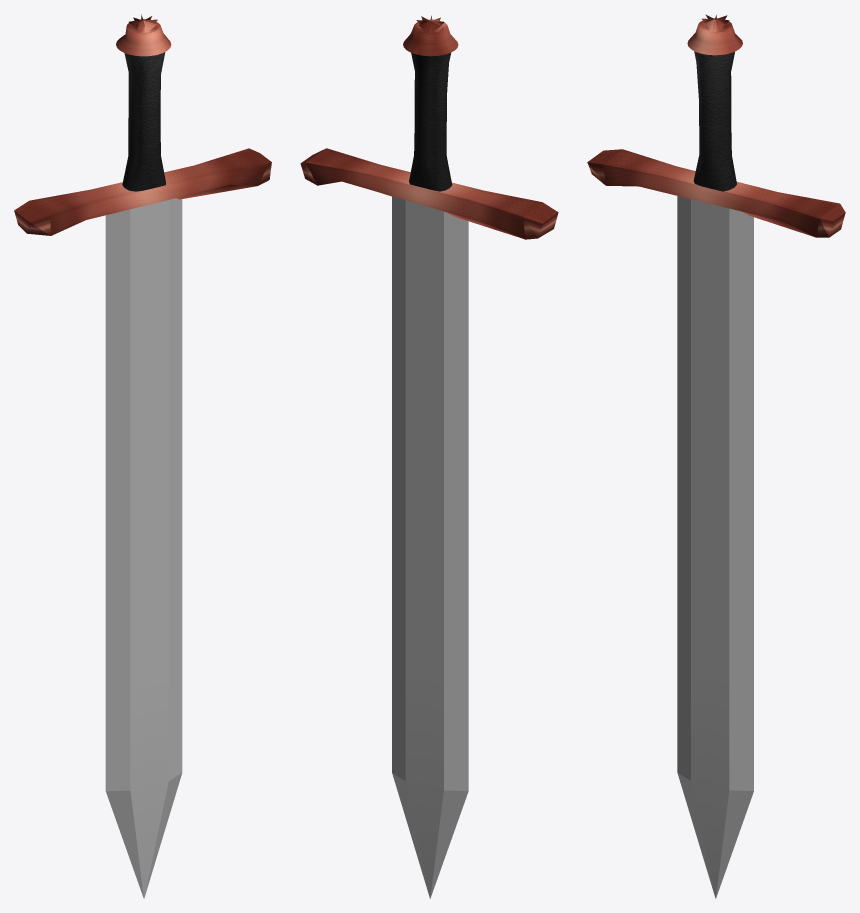
Rendered from Espada V2.FBX.
3 views of the same model, side by side, from view 1: azimuth 30°, elevation 25°; view 2: azimuth 150°, elevation 25°; view 3: azimuth 330°, elevation 25° (orthographic).
Parts seen in each view (by area): view 1: Filo, Tope espada, Mango, Tope mango; view 2: Filo, Tope espada, Mango, Tope mango; view 3: Filo, Tope espada, Mango, Tope mango.
Part boxes in pixels (x1,y1,x2,y2): Filo: (105,198,182,898); Tope espada: (14,148,271,235); Mango: (122,52,165,191); Tope mango: (116,14,171,56); Filo: (392,196,468,898); Tope espada: (300,148,558,239); Mango: (409,53,452,191); Tope mango: (403,15,458,56); Filo: (677,196,753,898); Tope espada: (587,149,845,237); Mango: (693,51,736,191); Tope mango: (687,14,742,55).
Bounding box in the file's own units: 12.74 × 43.76 × 2.51.
